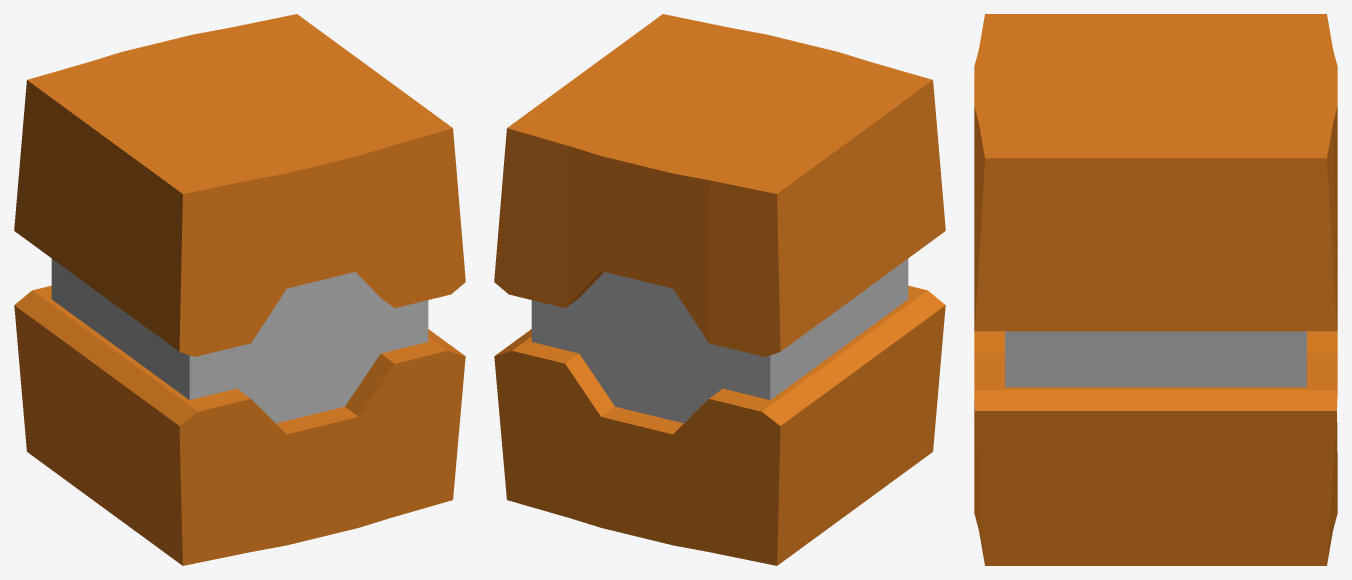
3 renders of one model, left to right at view 1: azimuth 30°, elevation 25°; view 2: azimuth 150°, elevation 25°; view 3: azimuth 270°, elevation 25°, orthographic. The views are drawn at different scales.
Parts seen in each view (by area): view 1: Cube; view 2: Cube; view 3: Cube.
Boxes of the visible parts, left/top/right/bottom form: Cube: left=14, top=14, right=465, bottom=565; Cube: left=494, top=14, right=945, bottom=565; Cube: left=974, top=14, right=1337, bottom=565.
Bounding box in the file's own units: 73.14 × 90.77 × 73.37.
